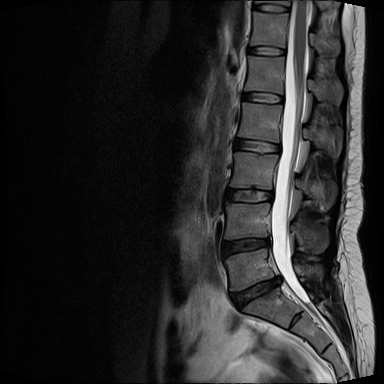Lumbar Disc Bulge (LDB): (224, 268, 287, 317)
Normal IVD: (217, 229, 273, 262), (222, 182, 279, 208), (226, 134, 288, 157), (236, 87, 290, 107), (243, 43, 291, 59), (249, 1, 293, 16)
Spinal Stenosis (SS): (270, 267, 288, 294)
